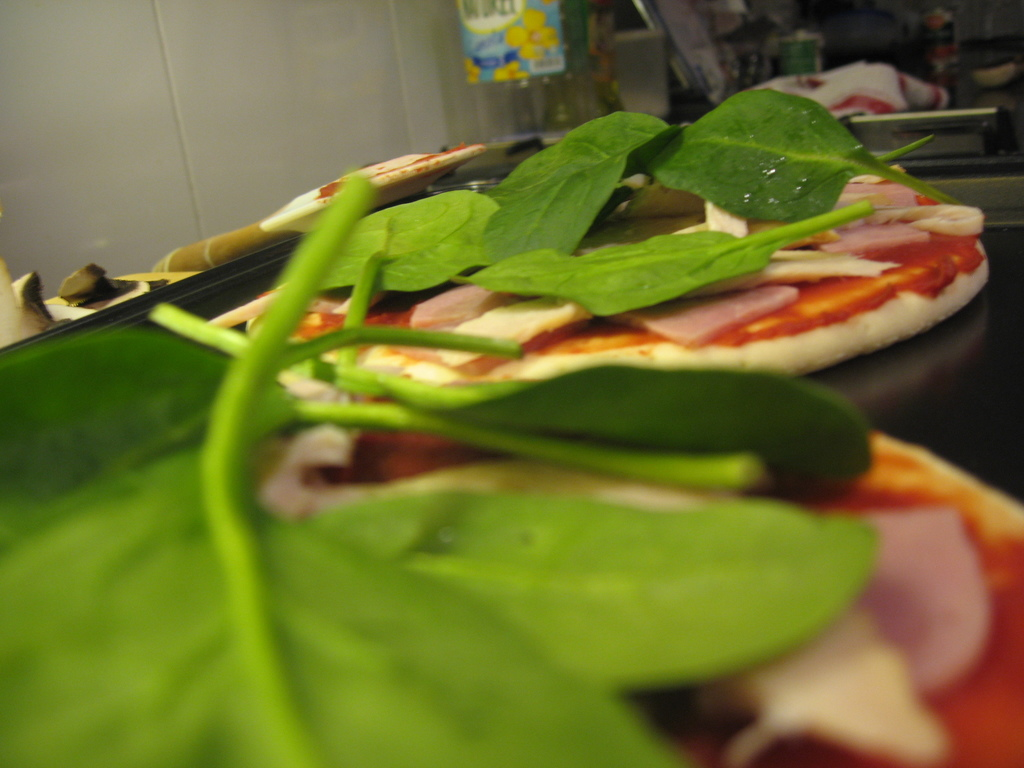Pizza: (0, 371, 1023, 767), (307, 141, 1006, 363)
